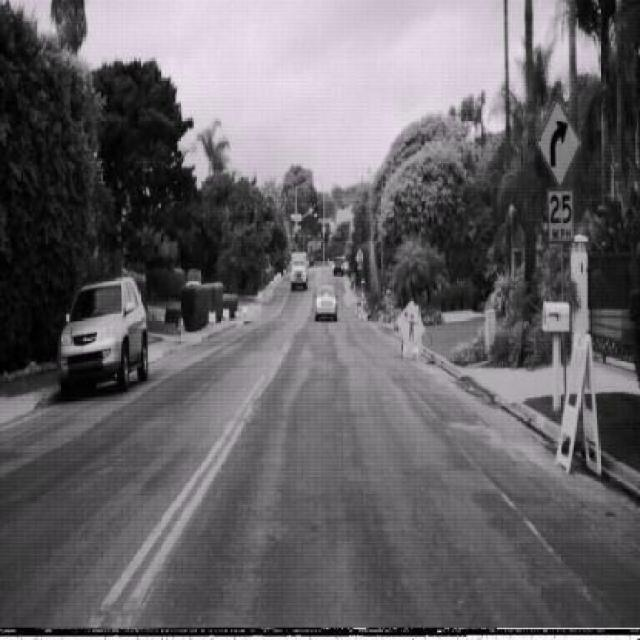curveRight: (537, 95, 582, 188)
